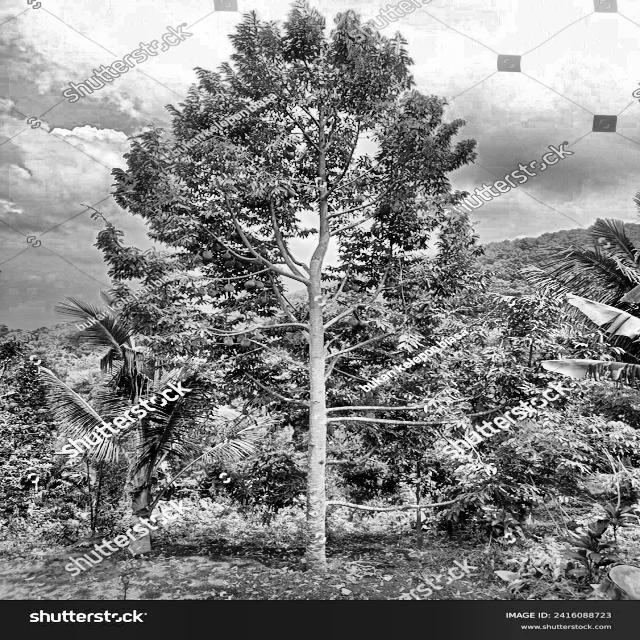arvore: (300, 160, 347, 584)
